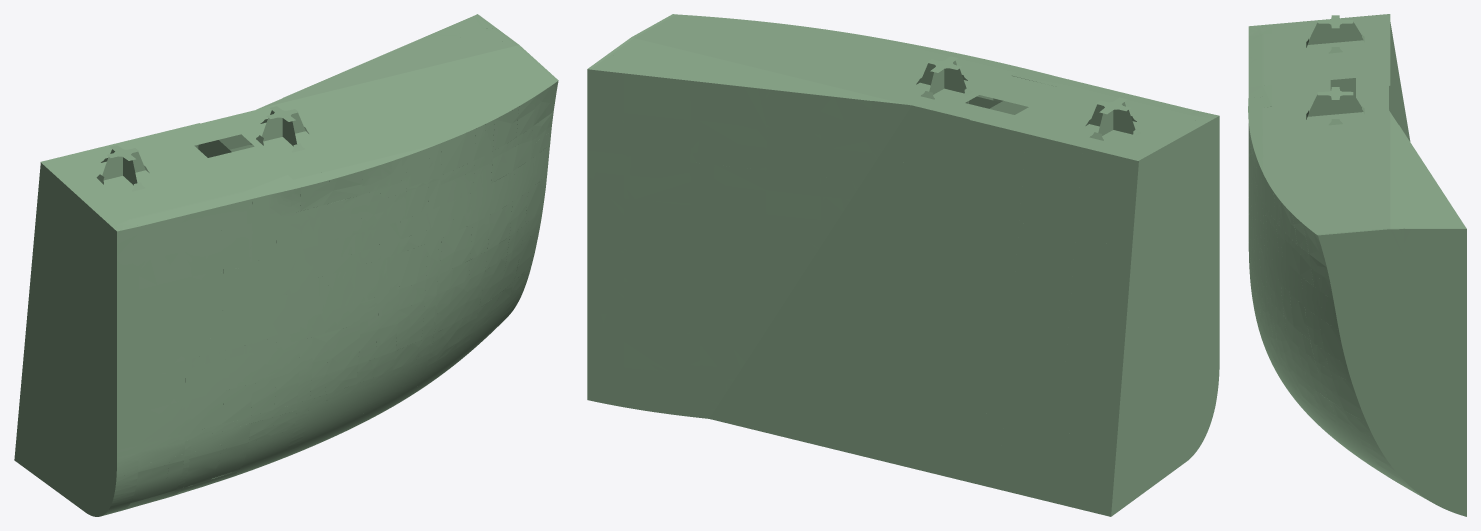
Rendered from NO_1_WING_CARGO_OIL_TK_SB.glb.
3 views of the same model, side by side, from view 1: azimuth 30°, elevation 25°; view 2: azimuth 150°, elevation 25°; view 3: azimuth 270°, elevation 25° (orthographic). The views are drawn at different scales.
Parts seen in each view (by area): view 1: PL_OuterShellxNo1SideTankS_027002-17_NVA32_1993, PL_OuterShellxNo1SideTankS_004003-17_NVA32_1993, PL_OuterShellxNo1SideTankS_012002-17_NVA32_1993, PL_OuterShellxNo1SideTankS_037002-18.5_NVA32_1993, PL_OuterShellxNo1SideTankS_026004-17_NVA32_1993, PL_OuterShellxNo1SideTankS_027003-17_NVA32_1993, PL_SideTransBHDxBHD90S_017001-19.5_NVA32_1993, PL_OuterShellxNo1SideTankS_009001-17_NVA32_1993, PL_SideTransBHDxBHD90S_018001-18.5_NVA32_1993, PL_SideTransBHDxBHD90S_001002-19.5_NVA32_1993, PL_OuterShellxNo1SideTankS_015008-17_NVA32_1993, PL_OuterShellxNo1SideTankS_010001-17_NVA32_1993 (+112 smaller); view 2: PL_LBHDxNo1CenterTankS_008003-15_NVA32_1993, PL_LBHDxNo1CenterTankS_004003-15.5_NVA32_1993, PL_LBHDxNo1CenterTankS_047003-20.5_NVA32_1993, PL_LBHDxNo1CenterTankS_019002-17.5_NVA32_1993, PL_LBHDxNo1CenterTankS_030003-17_NVA32_1993, PL_LBHDxNo1CenterTankS_008005-15_NVA32_1993, PL_LBHDxNo1CenterTankS_020002-17.5_NVA32_1993, PL_LBHDxNo1CenterTankS_018005-17.5_NVA32_1993, PL_LBHDxNo1CenterTankS_017003-17.5_NVA32_1993, PL_LBHDxNo1CenterTankS_004005-15.5_NVA32_1993, PL_LBHDxNo1CenterTankS_047002-20.5_NVA32_1993, PL_LBHDxNo1CenterTankS_029001-17_NVA32_1993 (+133 smaller); view 3: PL_SideTransBHDxBHD99S_007002-16_NVA_1993, PL_SideTransBHDxBHD99S_004002-13_NVA_1993, PL_SideTransBHDxBHD99S_002002-13_NVA_1993, PL_SideTransBHDxBHD99S_005004-14.5_NVA_1993, PL_SideTransBHDxBHD99S_015001-22_NVA_1993, PL_SideTransBHDxBHD99S_009001-17.5_NVA_1993, PL_SideTransBHDxBHD99S_010001-18.5_NVA_1993, PL_SideTransBHDxBHD99S_001001-13_NVA_1993, PL_SideTransBHDxBHD99S_006001-14.5_NVA_1993, PL_SideTransBHDxBHD99S_008004-17.5_NVA_1993, PL_SideTransBHDxBHD99S_003004-13_NVA_1993, PL_SideTransBHDxBHD99S_014001-21_NVA_1993 (+99 smaller).
Part boxes in pixels (box(x1,y1,x2,y2)): PL_OuterShellxNo1SideTankS_027002-17_NVA32_1993: box(191, 303, 252, 358); PL_OuterShellxNo1SideTankS_004003-17_NVA32_1993: box(191, 384, 251, 431); PL_OuterShellxNo1SideTankS_012002-17_NVA32_1993: box(311, 323, 360, 378); PL_OuterShellxNo1SideTankS_037002-18.5_NVA32_1993: box(138, 320, 185, 371); PL_OuterShellxNo1SideTankS_026004-17_NVA32_1993: box(191, 353, 252, 398); PL_OuterShellxNo1SideTankS_027003-17_NVA32_1993: box(252, 291, 299, 343); PL_SideTransBHDxBHD90S_017001-19.5_NVA32_1993: box(65, 455, 114, 516); PL_OuterShellxNo1SideTankS_009001-17_NVA32_1993: box(313, 265, 361, 315); PL_SideTransBHDxBHD90S_018001-18.5_NVA32_1993: box(65, 420, 116, 489); PL_SideTransBHDxBHD90S_001002-19.5_NVA32_1993: box(14, 423, 58, 492); PL_OuterShellxNo1SideTankS_015008-17_NVA32_1993: box(300, 205, 361, 249); PL_OuterShellxNo1SideTankS_010001-17_NVA32_1993: box(440, 215, 489, 273); PL_LBHDxNo1CenterTankS_008003-15_NVA32_1993: box(690, 205, 766, 254); PL_LBHDxNo1CenterTankS_004003-15.5_NVA32_1993: box(690, 80, 766, 128); PL_LBHDxNo1CenterTankS_047003-20.5_NVA32_1993: box(967, 437, 1035, 497); PL_LBHDxNo1CenterTankS_019002-17.5_NVA32_1993: box(971, 395, 1038, 452); PL_LBHDxNo1CenterTankS_030003-17_NVA32_1993: box(624, 367, 690, 416); PL_LBHDxNo1CenterTankS_008005-15_NVA32_1993: box(624, 198, 690, 246); PL_LBHDxNo1CenterTankS_020002-17.5_NVA32_1993: box(986, 259, 1049, 316); PL_LBHDxNo1CenterTankS_018005-17.5_NVA32_1993: box(624, 327, 690, 374); PL_LBHDxNo1CenterTankS_017003-17.5_NVA32_1993: box(975, 346, 1042, 401); PL_LBHDxNo1CenterTankS_004005-15.5_NVA32_1993: box(624, 73, 690, 119); PL_LBHDxNo1CenterTankS_047002-20.5_NVA32_1993: box(1032, 453, 1091, 511); PL_LBHDxNo1CenterTankS_029001-17_NVA32_1993: box(690, 289, 745, 340); PL_SideTransBHDxBHD99S_007002-16_NVA_1993: box(1403, 344, 1466, 374); PL_SideTransBHDxBHD99S_004002-13_NVA_1993: box(1403, 286, 1466, 315); PL_SideTransBHDxBHD99S_002002-13_NVA_1993: box(1403, 229, 1466, 257); PL_SideTransBHDxBHD99S_005004-14.5_NVA_1993: box(1403, 317, 1466, 344); PL_SideTransBHDxBHD99S_015001-22_NVA_1993: box(1389, 462, 1442, 507); PL_SideTransBHDxBHD99S_009001-17.5_NVA_1993: box(1342, 344, 1382, 383); PL_SideTransBHDxBHD99S_010001-18.5_NVA_1993: box(1422, 403, 1466, 433); PL_SideTransBHDxBHD99S_001001-13_NVA_1993: box(1318, 231, 1361, 267); PL_SideTransBHDxBHD99S_006001-14.5_NVA_1993: box(1331, 286, 1374, 317); PL_SideTransBHDxBHD99S_008004-17.5_NVA_1993: box(1403, 384, 1466, 403); PL_SideTransBHDxBHD99S_003004-13_NVA_1993: box(1403, 267, 1466, 286); PL_SideTransBHDxBHD99S_014001-21_NVA_1993: box(1442, 462, 1466, 516).
Bounding box in the file's own units: 47.17 × 31.51 × 20.26.
